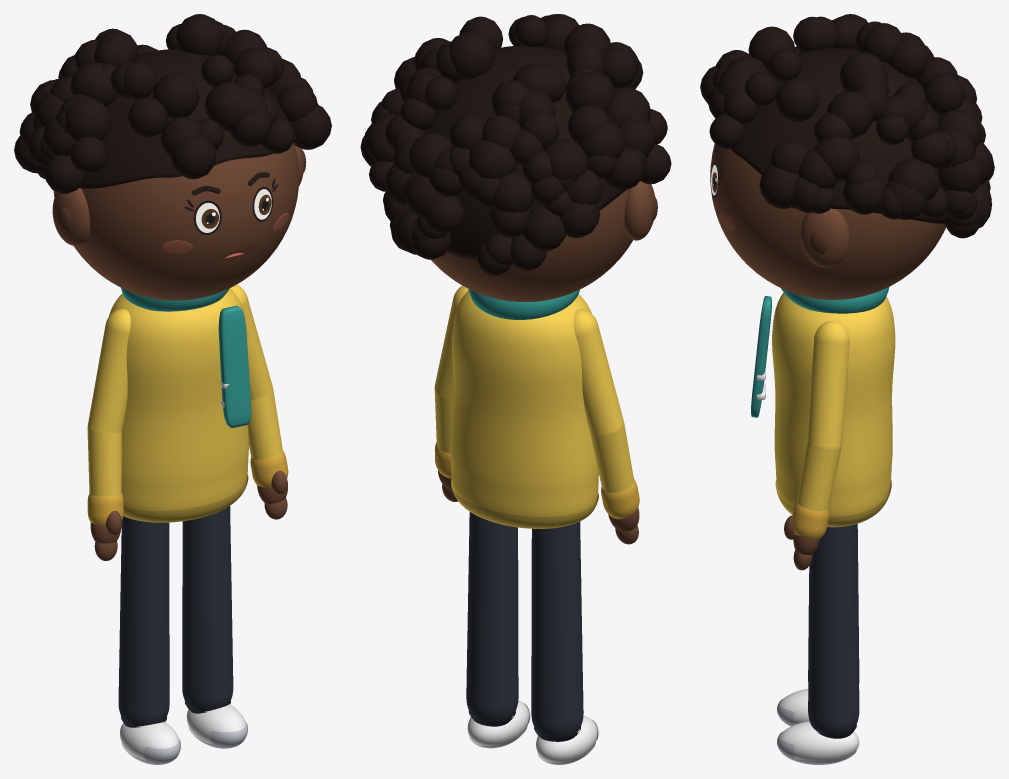
File: vrouw_hond.glb
3 views of the same model, side by side, from view 1: azimuth 30°, elevation 25°; view 2: azimuth 150°, elevation 25°; view 3: azimuth 270°, elevation 25° (orthographic). The views are drawn at different scales.
Parts seen in each view (by area): view 1: vrouw_hond_romp, vrouw_hond_hoofd, vrouw_hond_been_R, vrouw_hond_been_L, vrouw_hond_haar, vrouw_hond_bovenarm_R, vrouw_hond_sjaal_eind, vrouw_hond_onderarm_R, vrouw_hond_onderarm_L, vrouw_hond_bovenarm_L, vrouw_hond_krul60, vrouw_hond_krul32 (+29 smaller); view 2: vrouw_hond_romp, vrouw_hond_been_R, vrouw_hond_been_L, vrouw_hond_hoofd, vrouw_hond_haar, vrouw_hond_bovenarm_R, vrouw_hond_onderarm_R, vrouw_hond_sjaal, vrouw_hond_krul60, vrouw_hond_romp_boord, vrouw_hond_schoen_R, vrouw_hond_krul28 (+51 smaller); view 3: vrouw_hond_romp, vrouw_hond_hoofd, vrouw_hond_been_L, vrouw_hond_haar, vrouw_hond_bovenarm_L, vrouw_hond_onderarm_L, vrouw_hond_oor_L, vrouw_hond_schoen_L, vrouw_hond_krul55, vrouw_hond_sjaal, vrouw_hond_krul0, vrouw_hond_krul26 (+37 smaller).
Boxes of the visible parts, bbox=[...] form: vrouw_hond_romp: bbox=[108, 288, 248, 510]; vrouw_hond_hoofd: bbox=[53, 143, 298, 300]; vrouw_hond_been_R: bbox=[118, 516, 169, 726]; vrouw_hond_been_L: bbox=[182, 506, 233, 711]; vrouw_hond_haar: bbox=[79, 49, 296, 188]; vrouw_hond_bovenarm_R: bbox=[88, 308, 130, 433]; vrouw_hond_sjaal_eind: bbox=[218, 306, 251, 427]; vrouw_hond_onderarm_R: bbox=[87, 428, 121, 496]; vrouw_hond_onderarm_L: bbox=[248, 390, 282, 459]; vrouw_hond_bovenarm_L: bbox=[230, 284, 272, 399]; vrouw_hond_krul60: bbox=[175, 14, 223, 55]; vrouw_hond_krul32: bbox=[65, 97, 111, 141]; vrouw_hond_romp: bbox=[450, 290, 598, 516]; vrouw_hond_been_R: bbox=[531, 521, 583, 737]; vrouw_hond_been_L: bbox=[466, 512, 518, 721]; vrouw_hond_hoofd: bbox=[431, 189, 632, 301]; vrouw_hond_haar: bbox=[425, 45, 625, 259]; vrouw_hond_bovenarm_R: bbox=[573, 309, 623, 436]; vrouw_hond_onderarm_R: bbox=[590, 423, 633, 492]; vrouw_hond_sjaal: bbox=[468, 289, 579, 319]; vrouw_hond_krul60: bbox=[449, 32, 494, 79]; vrouw_hond_romp_boord: bbox=[451, 480, 598, 528]; vrouw_hond_schoen_R: bbox=[536, 715, 597, 762]; vrouw_hond_krul28: bbox=[566, 71, 615, 112]; vrouw_hond_romp: bbox=[772, 292, 895, 516]; vrouw_hond_hoofd: bbox=[710, 144, 945, 299]; vrouw_hond_been_L: bbox=[808, 524, 859, 734]; vrouw_hond_haar: bbox=[731, 48, 945, 223]; vrouw_hond_bovenarm_L: bbox=[807, 321, 849, 451]; vrouw_hond_onderarm_L: bbox=[797, 442, 840, 511]; vrouw_hond_oor_L: bbox=[800, 208, 849, 267]; vrouw_hond_schoen_L: bbox=[779, 721, 859, 761]; vrouw_hond_krul55: bbox=[775, 78, 819, 121]; vrouw_hond_sjaal: bbox=[781, 287, 889, 313]; vrouw_hond_krul0: bbox=[826, 91, 873, 138]; vrouw_hond_krul26: bbox=[923, 73, 965, 115].
Size of the model in its own units: 0.7223 by 1.83 by 0.6873.
